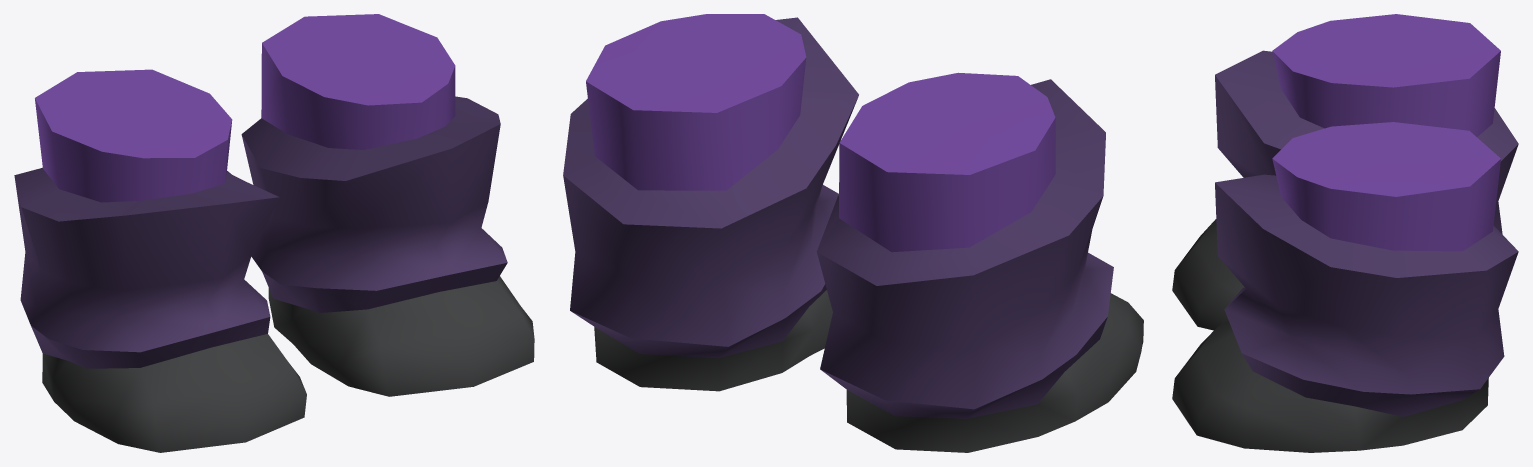
The model's file is Shoes_33.fbx.
3 views of the same model, side by side, from view 1: azimuth 30°, elevation 25°; view 2: azimuth 150°, elevation 25°; view 3: azimuth 270°, elevation 25° (orthographic). The views are drawn at different scales.
Parts seen in each view (by area): view 1: Shoes_33; view 2: Shoes_33; view 3: Shoes_33.
Part boxes in pixels (<box>): Shoes_33: <box>14,14,534,452</box>; Shoes_33: <box>563,14,1143,452</box>; Shoes_33: <box>1172,14,1518,452</box>.
Bounding box in the file's own units: 39.33 × 21.4 × 27.17.
